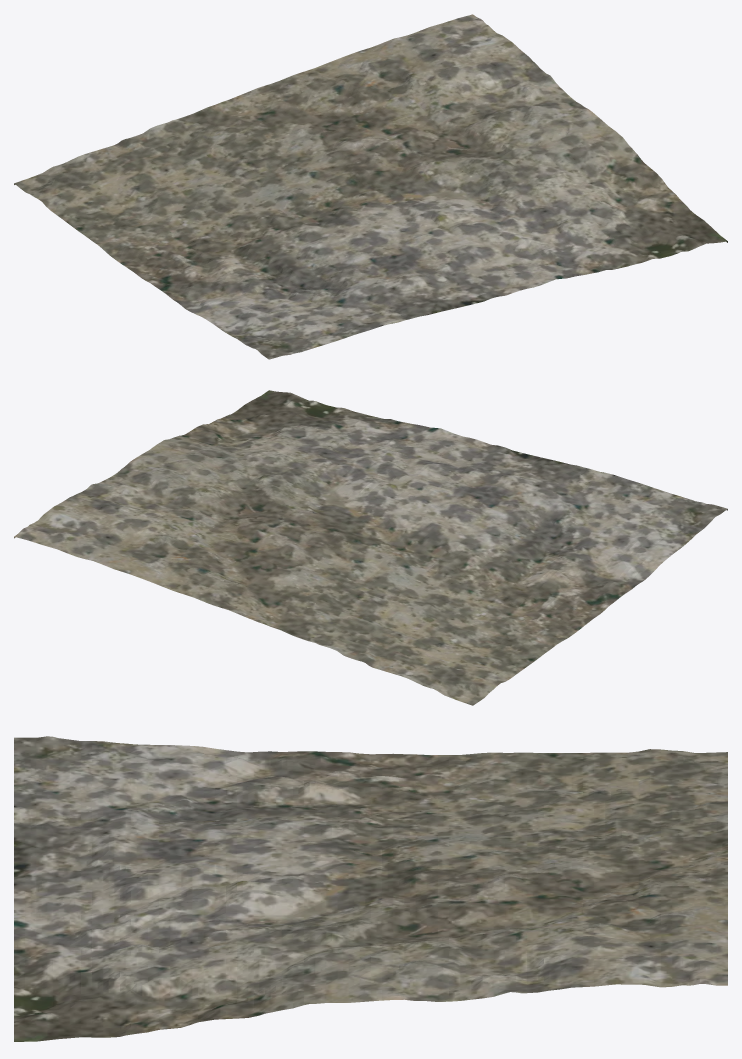
3 renders of one model, top to bottom at view 1: azimuth 30°, elevation 25°; view 2: azimuth 150°, elevation 25°; view 3: azimuth 270°, elevation 25°, orthographic. The views are drawn at different scales.
Bounding box in the file's own units: 250 × 32.57 × 241.
1 material, 1 textured.
